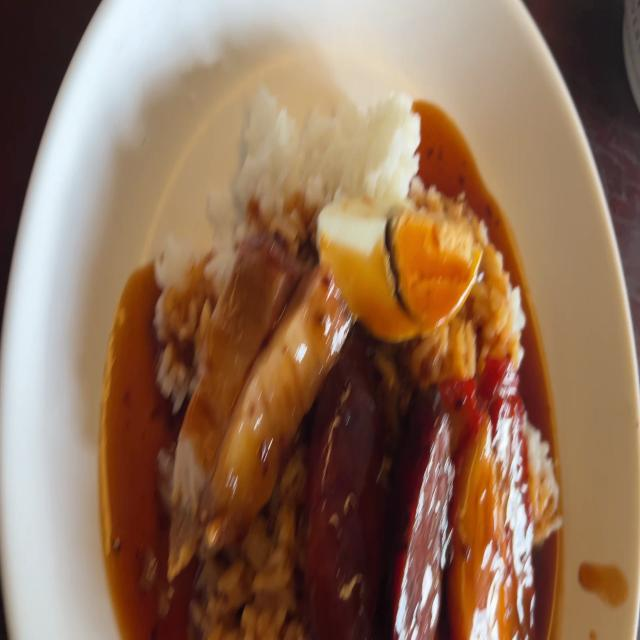01boiled_egg: (317, 200, 480, 329)
01chainese_sausage: (315, 357, 447, 640)
01crispy_pork: (168, 235, 324, 519)
01red_pork: (460, 349, 532, 636)
01red_pork_and_crispy_pork: (155, 82, 562, 640)
01rice: (227, 82, 422, 188)
